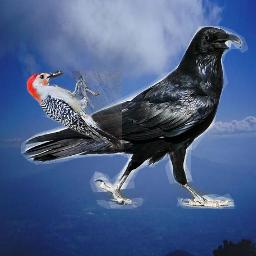Crow: (21, 26, 248, 209)
Woodpecker: (27, 71, 122, 149)
